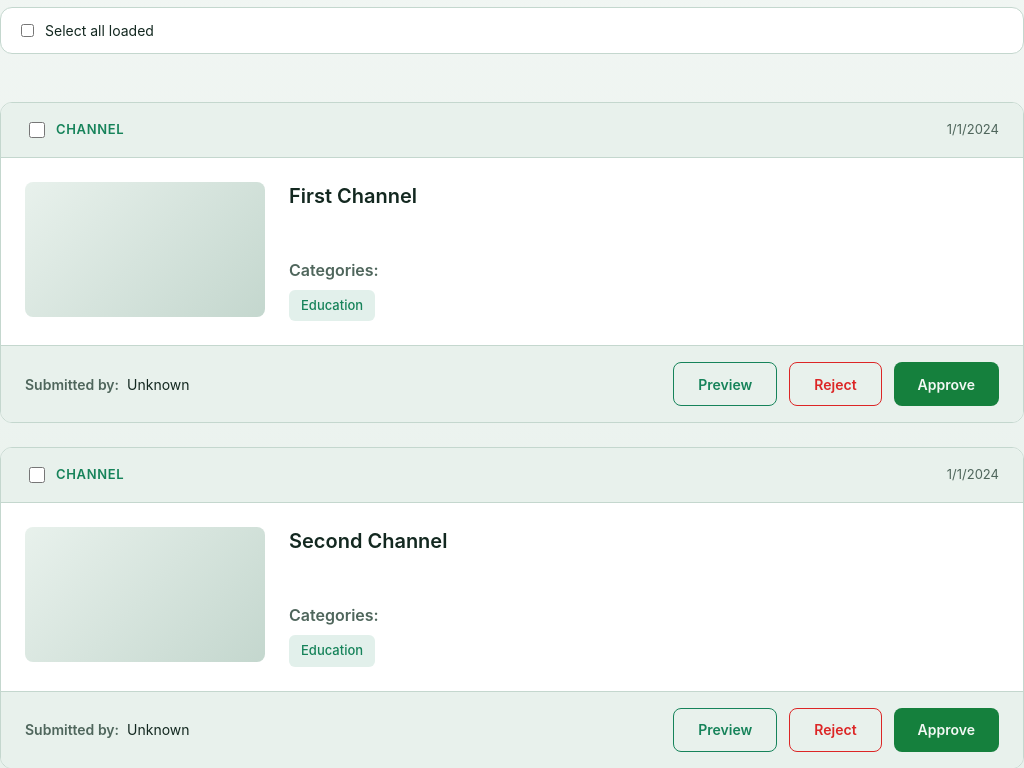
Test: acting on an item keeps the reviewer in place › drops the rejected item from the queue without refetching it
(page scrolled)
expect the heading "First Channel" is shown: met, box [289, 184, 417, 208]
Click the 1st button "Reject" at point(835, 384), box [789, 362, 882, 406]
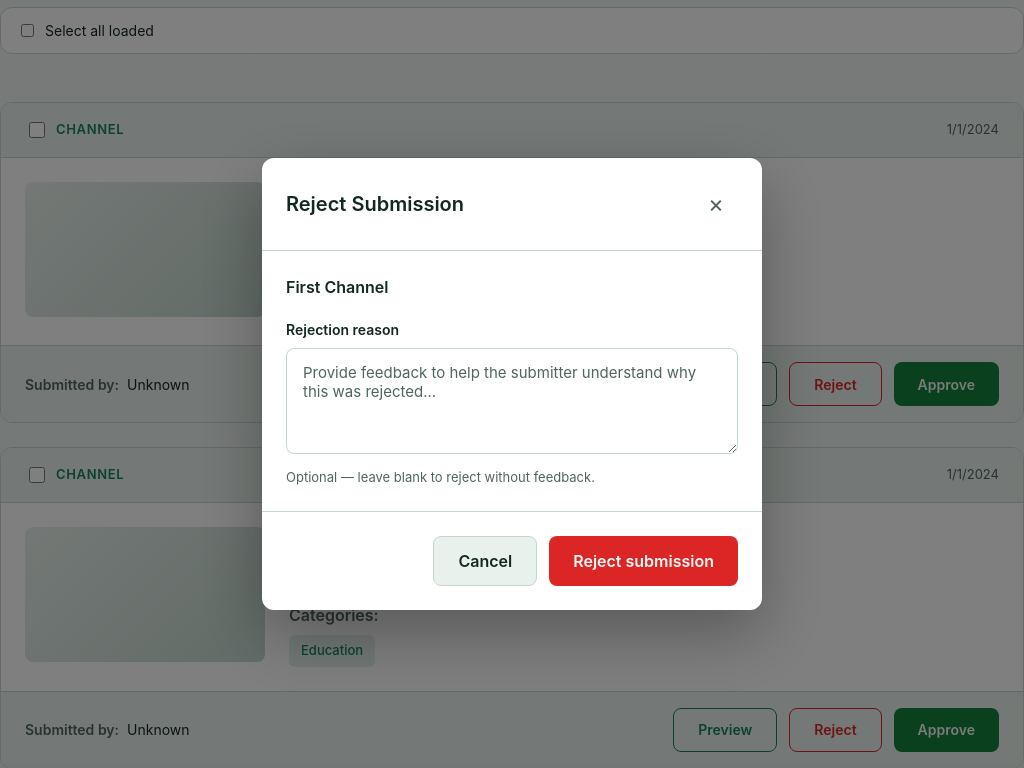
Click the button "Reject submission" at point(644, 561), box [549, 536, 738, 586]
(page scrolled)
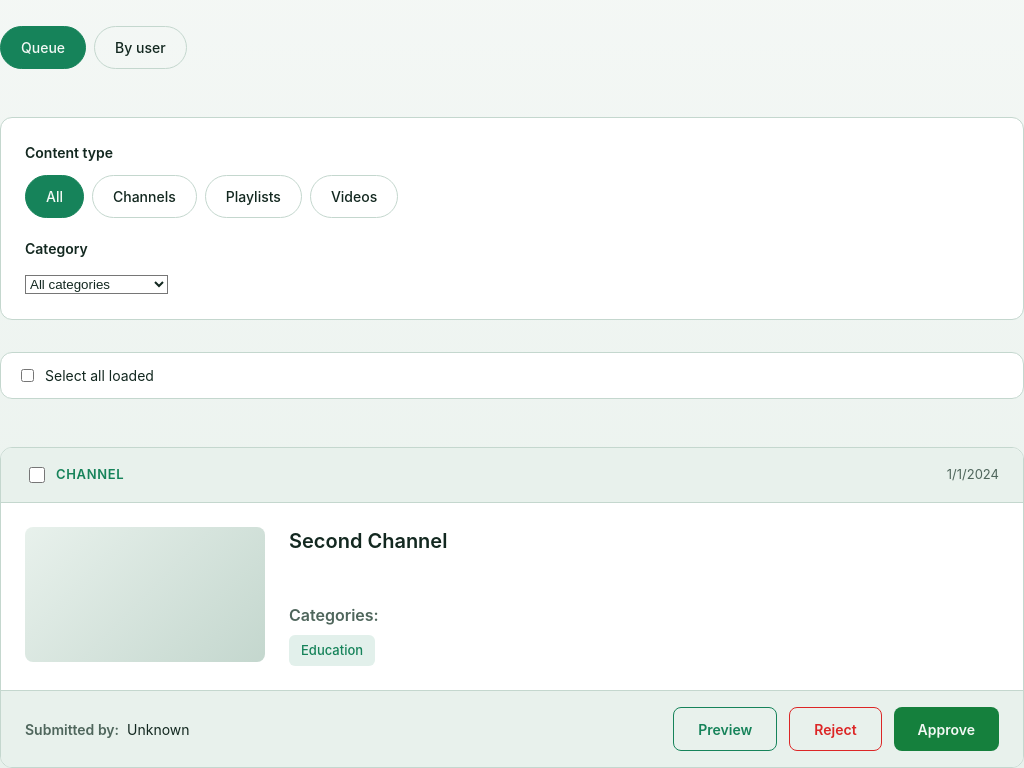
expect the heading "Second Channel" is shown: met, box [289, 528, 447, 552]
expect the heading "First Channel" is gone: met
